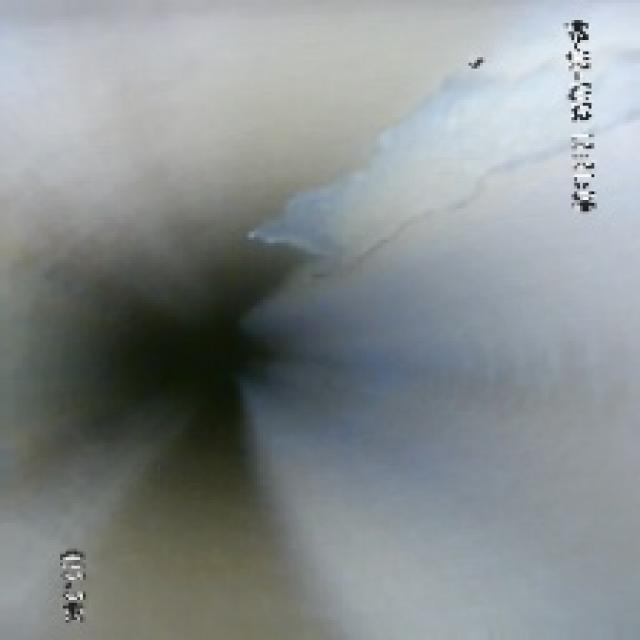pipe_surface_damage: (251, 106, 560, 243)
